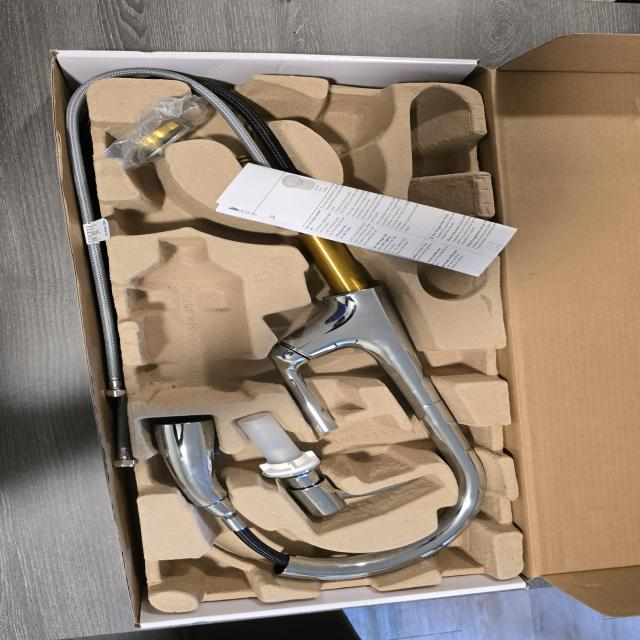1o: (152, 76, 488, 581)
2: (236, 412, 417, 521)
3m: (130, 238, 253, 406)
4m: (405, 85, 487, 301)
5m: (316, 103, 391, 153)
6: (97, 93, 211, 165)
7m: (111, 175, 234, 239)
8: (212, 162, 522, 278)
